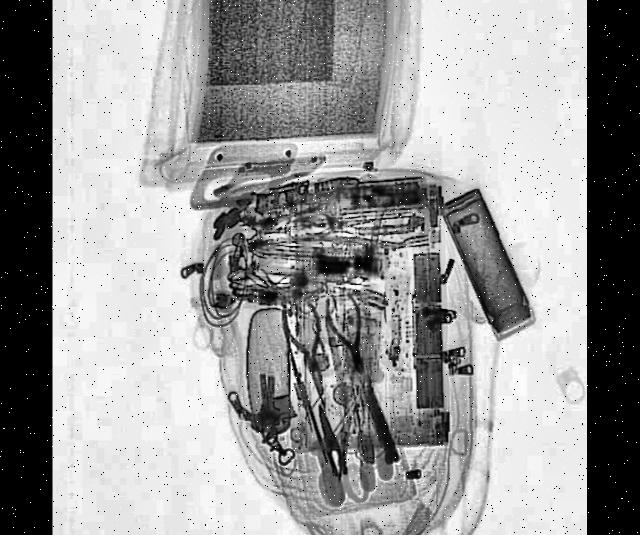Pliers: (278, 292, 338, 402), (320, 286, 375, 381)
